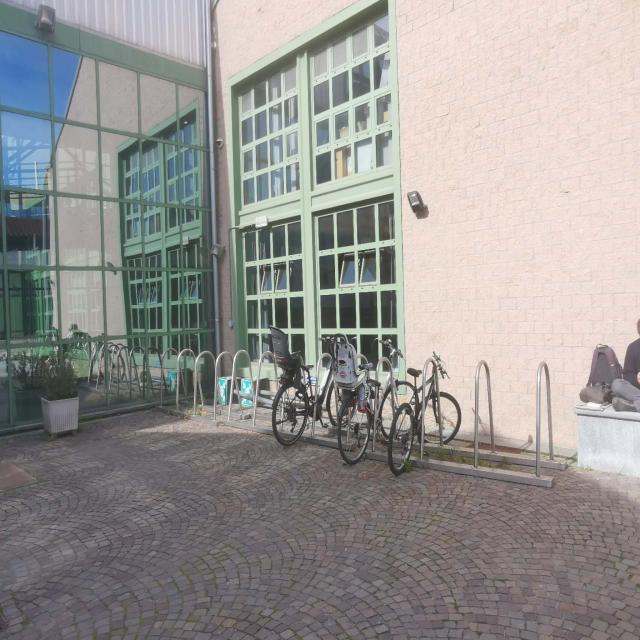Bicycle: (264, 319, 363, 444), (332, 333, 422, 467), (392, 343, 463, 485)
